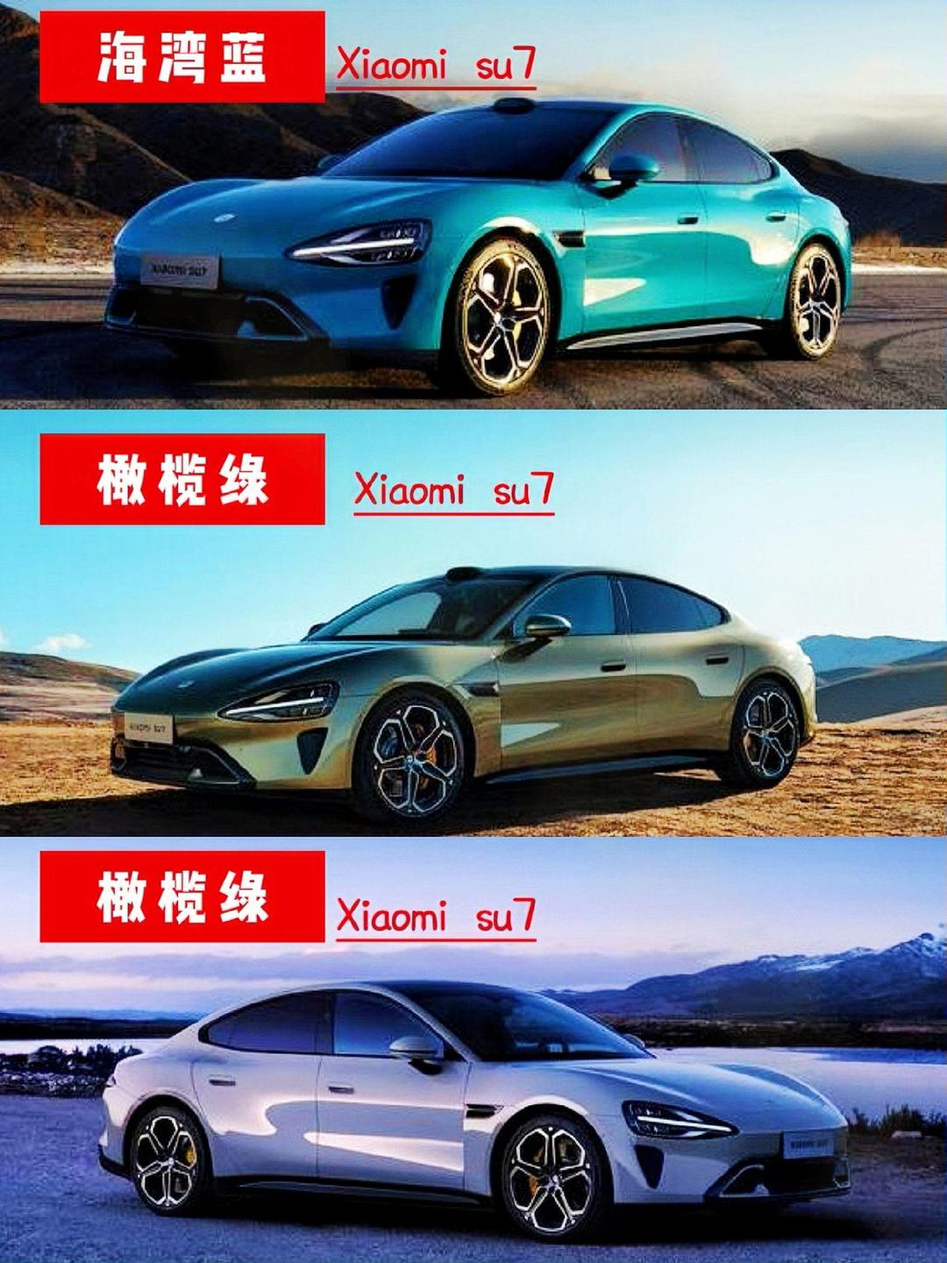su7: (110, 102, 860, 377), (102, 974, 854, 1235), (108, 561, 824, 803)
